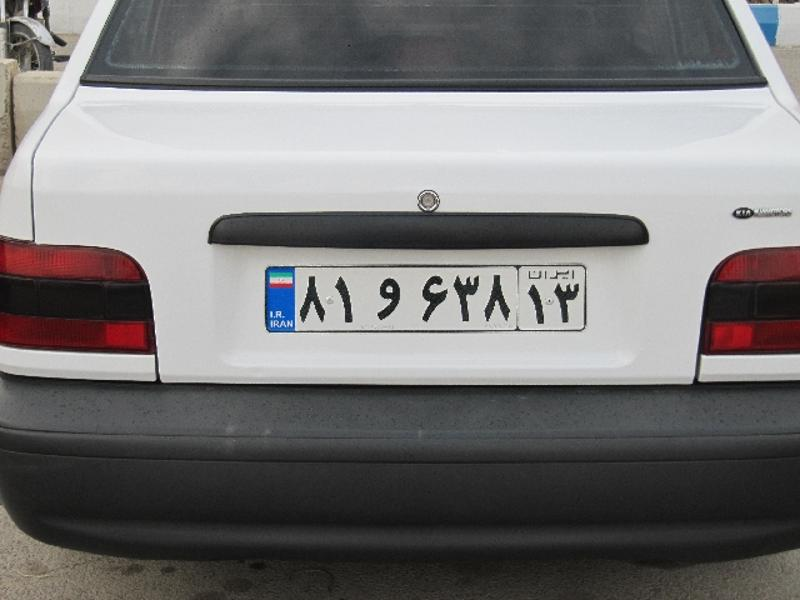Plate: (269, 266, 584, 330)
